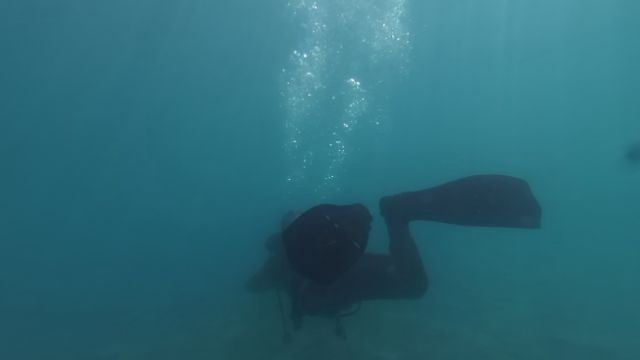Diver: (240, 157, 559, 334)
